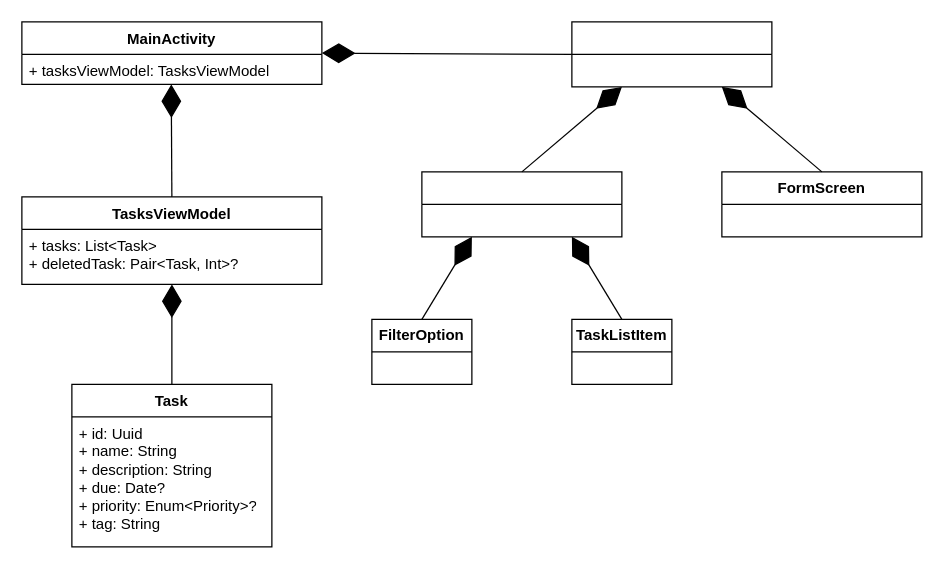
The diagram is 944 pixels wide and 573 high, and some of its shapes have lost their labels. The shapes that lost their labels are listed below. From the top down, each one's centre as x and y in pixels, then its label:
At [671,54]: "TaskyNavigator".
At [521,204]: "TasksScreen".
